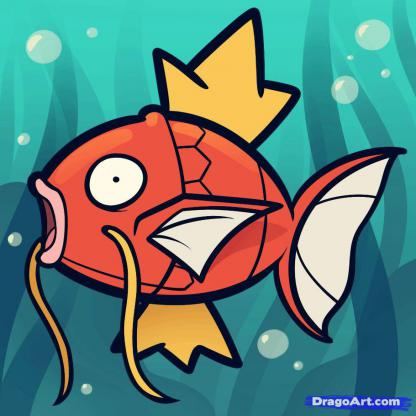Magikarp: (4, 19, 416, 410)
